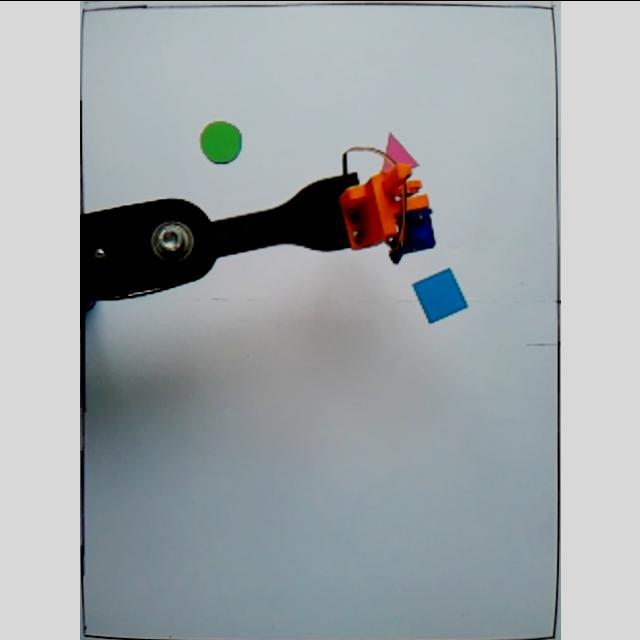blueSquare: (409, 266, 468, 324)
greenCircle: (196, 118, 244, 164)
pinkTriangle: (376, 132, 418, 180)
